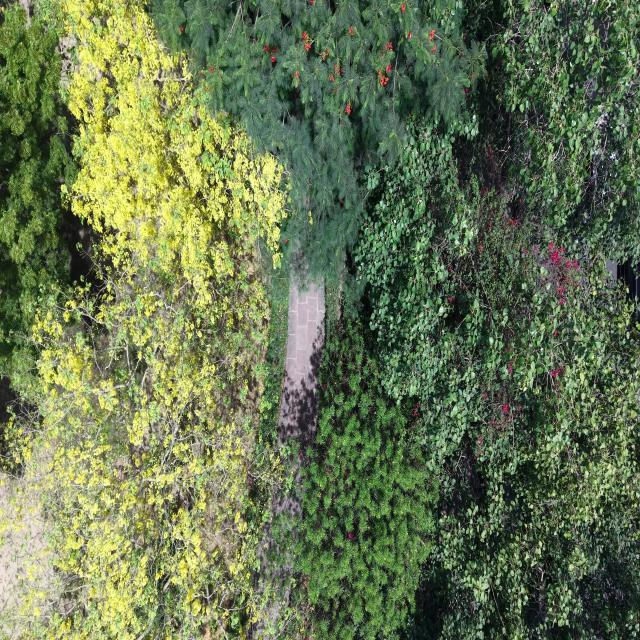DRY_AREA: (0, 456, 54, 638), (0, 476, 57, 638), (251, 460, 301, 639), (278, 274, 325, 454), (278, 275, 324, 452), (278, 275, 324, 451), (0, 474, 45, 637), (0, 532, 18, 633), (19, 0, 32, 28)
PATHWAYS: (251, 458, 301, 639), (278, 274, 324, 452)
VEGETATION_TREE: (0, 0, 639, 639), (348, 2, 639, 637), (12, 0, 284, 639), (357, 127, 639, 638), (154, 0, 638, 268), (153, 0, 485, 271), (296, 290, 437, 639), (493, 0, 639, 263), (355, 126, 480, 410), (0, 3, 74, 375), (250, 268, 307, 638), (260, 269, 289, 448)
